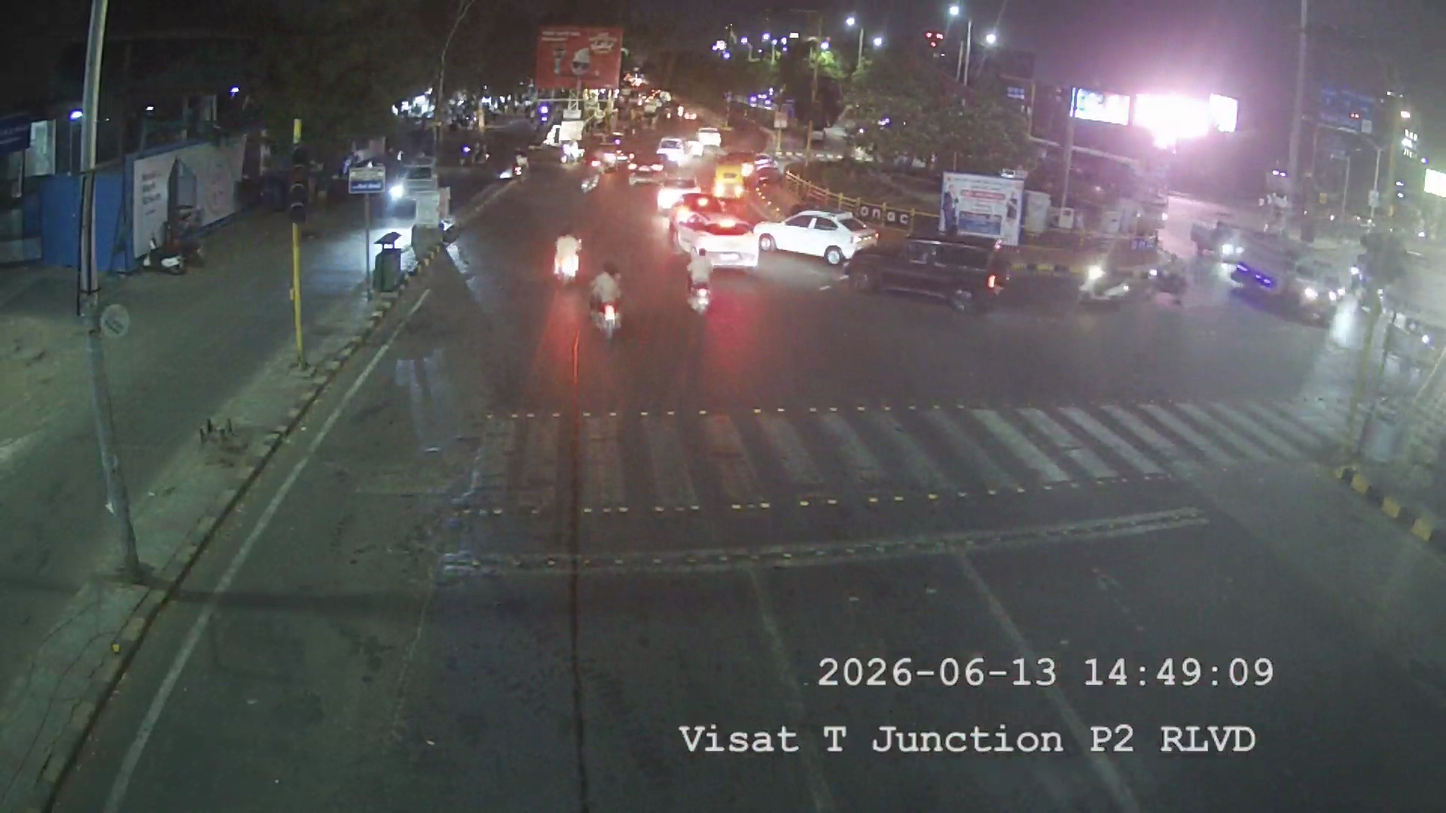auto_rickshaw: (711, 157, 751, 199)
car: (757, 203, 876, 265), (671, 204, 763, 272)
two_wheeler: (586, 261, 629, 344), (1072, 251, 1133, 309), (546, 225, 588, 289), (436, 213, 473, 283), (682, 256, 718, 320), (979, 247, 1012, 301), (436, 205, 465, 261)
